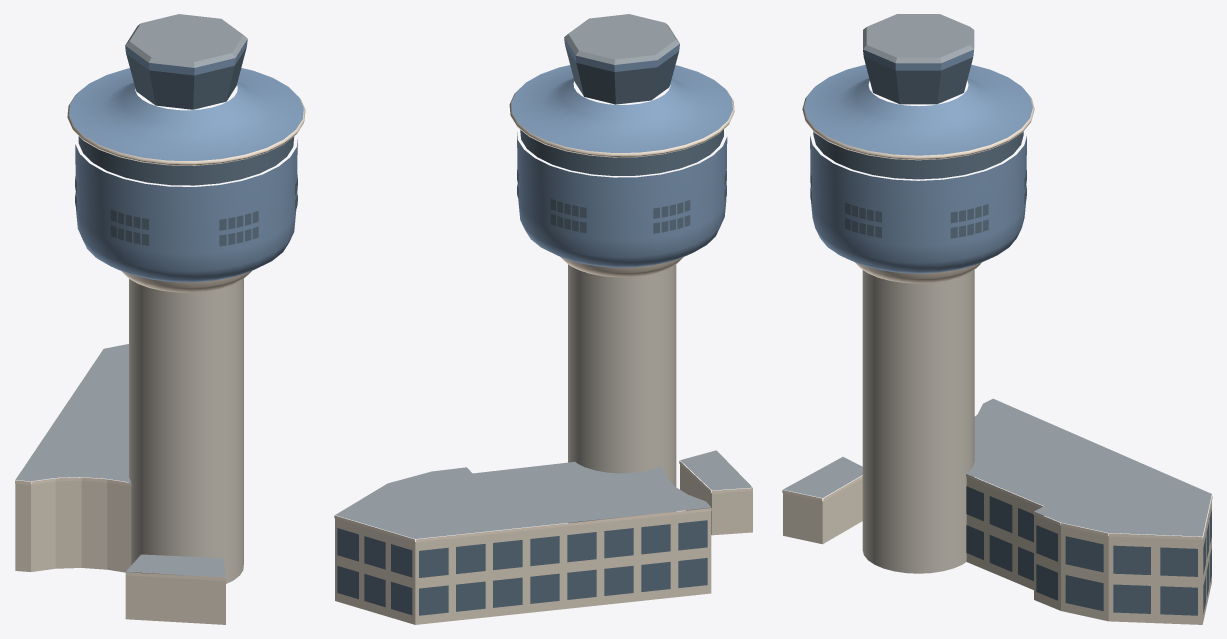
Rendered from nyc-lga-control-tower.glb.
3 views of the same model, side by side, from view 1: azimuth 30°, elevation 25°; view 2: azimuth 150°, elevation 25°; view 3: azimuth 270°, elevation 25° (orthographic). The views are drawn at different scales.
Visible parts, largest first — view 1: LaGuardia Airport Air Traffic Control Tower; view 2: LaGuardia Airport Air Traffic Control Tower; view 3: LaGuardia Airport Air Traffic Control Tower.
Boxes of the visible parts, x1,y1,x2,y2 form: LaGuardia Airport Air Traffic Control Tower: (15, 14, 305, 624); LaGuardia Airport Air Traffic Control Tower: (334, 14, 752, 624); LaGuardia Airport Air Traffic Control Tower: (782, 14, 1212, 624).
Bounding box in the file's own units: 38.67 × 66.9 × 50.78.
